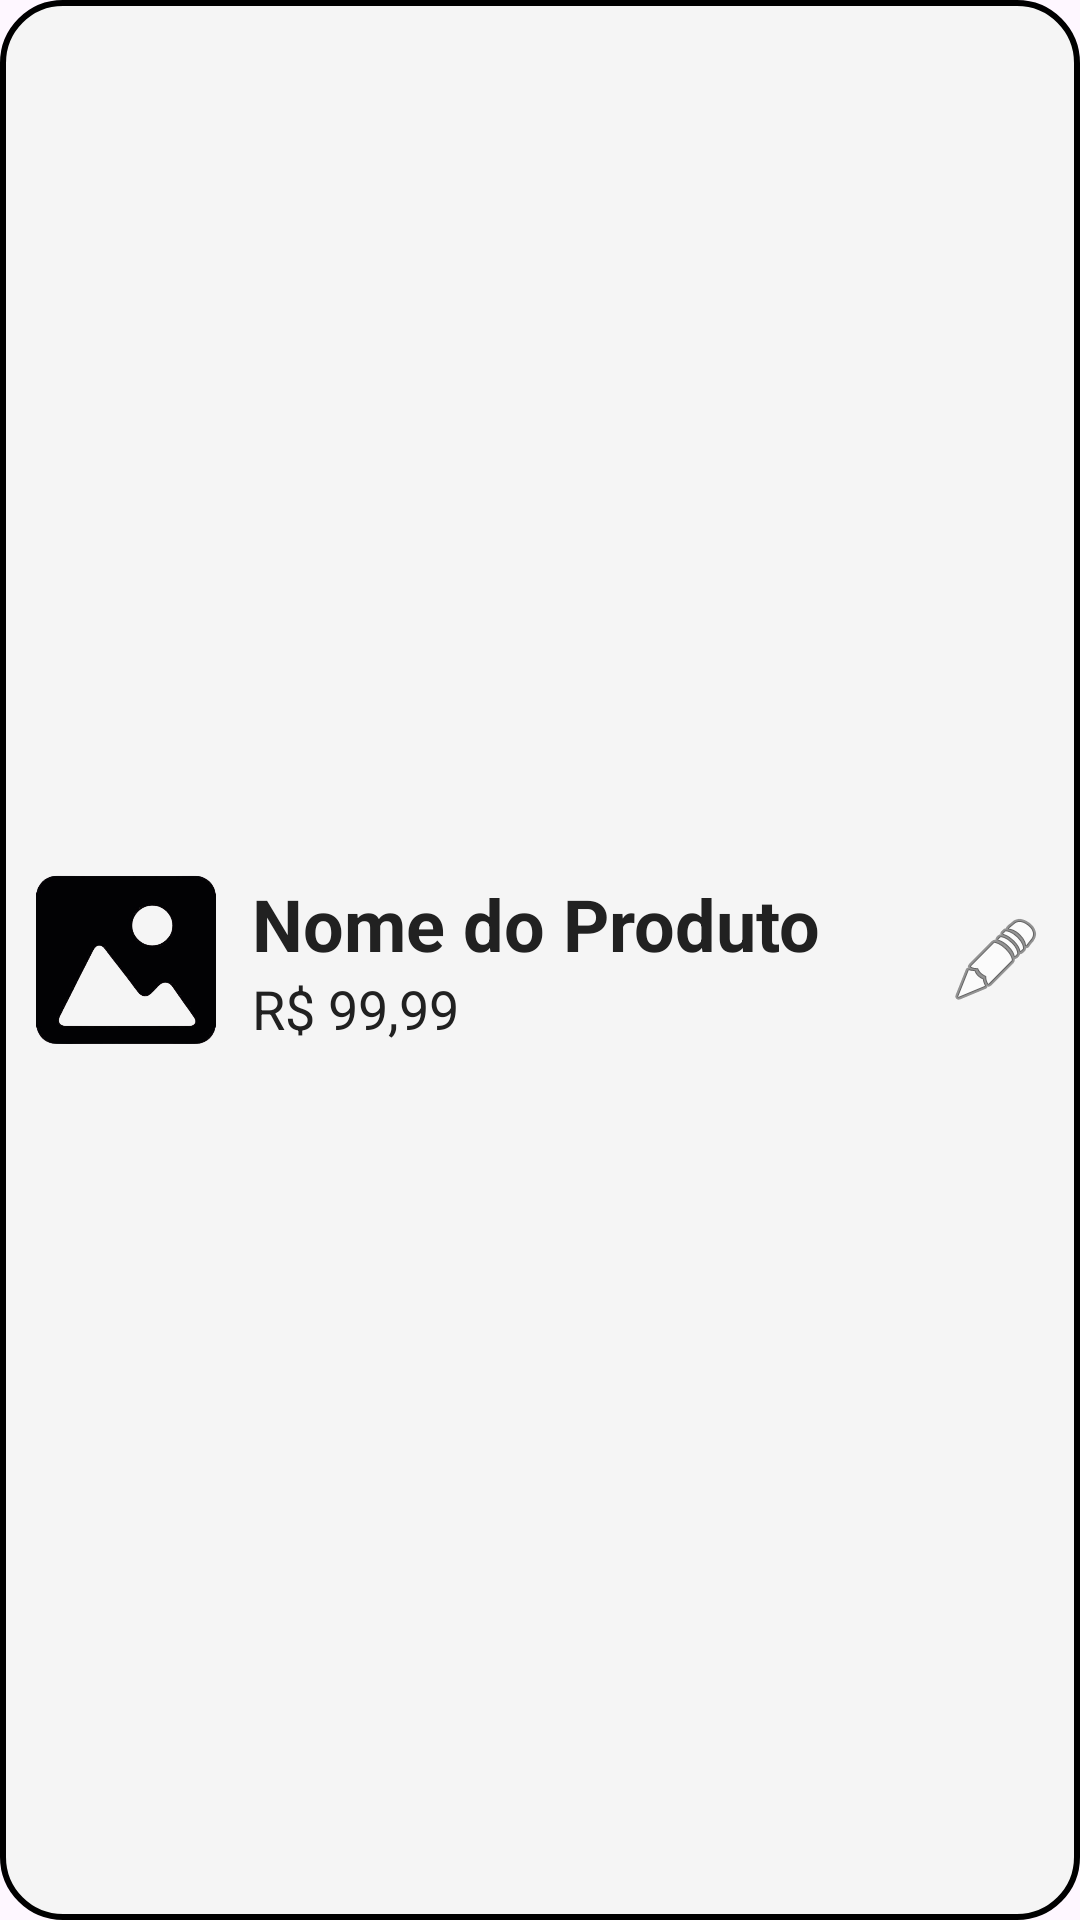

Where icons sit on this 1080*1920 app screen, as [x1=x1, y1=y1, x2=x2, y2=y2]:
Editar: [x1=955, y1=919, x2=1036, y2=1000]
imagem: [x1=36, y1=876, x2=216, y2=1044]
